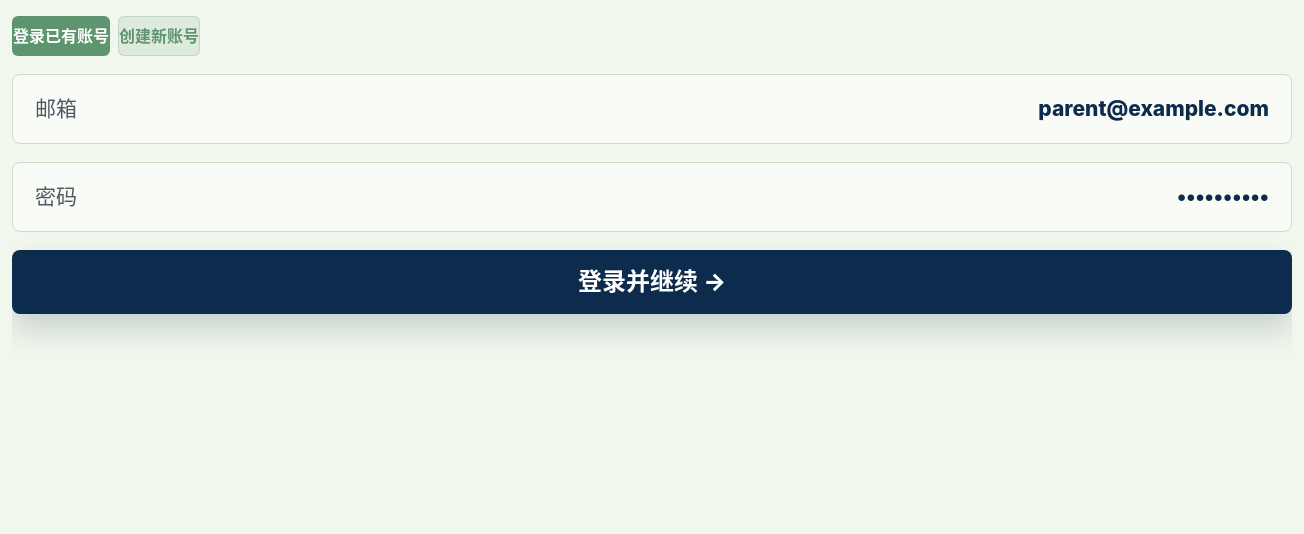
Test: OnboardingForm › keeps registration fields focused on account, child name, and age
Click the button "创建新账号" at (159, 36), box [118,16,200,56]
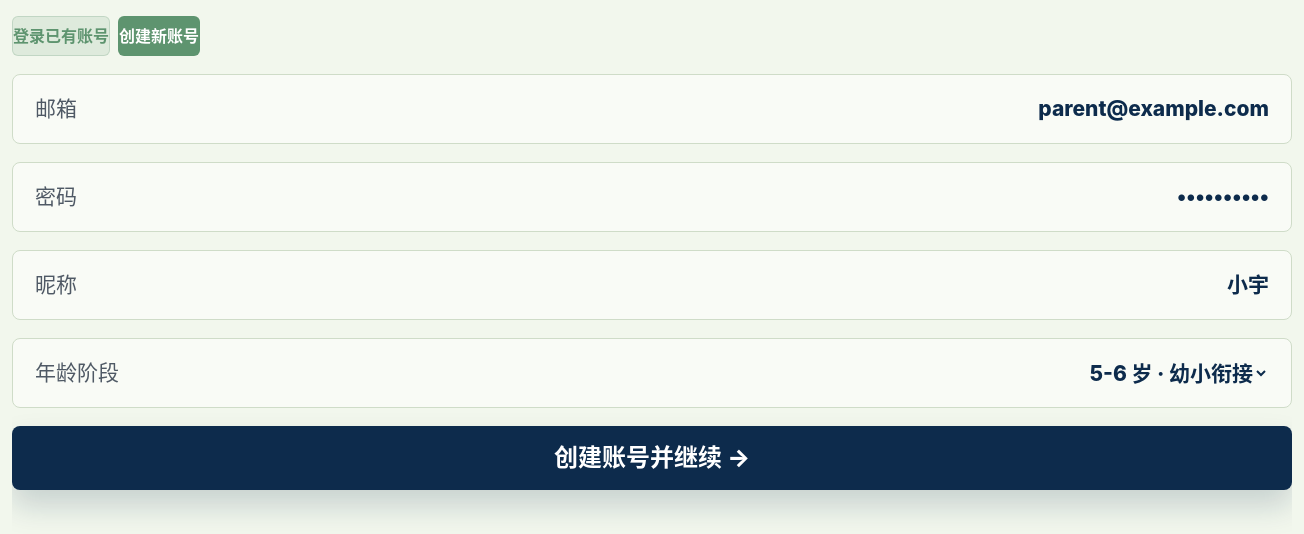
Check: the field named "孩子昵称" is shown, box [553,269,1269,301]
Check: the dropdown labelled "年龄阶段" is shown, box [553,360,1269,386]
Check: the button "创建账号并继续 →" is shown, box [12,426,1292,490]
